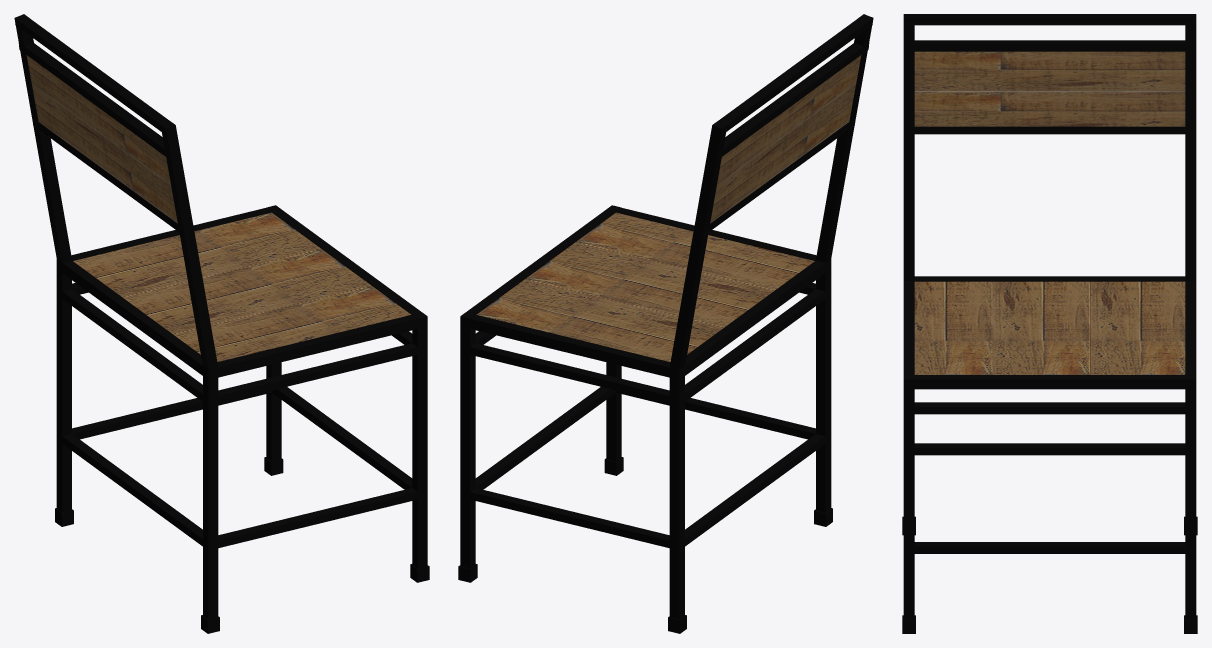
3 renders of one model, left to right at view 1: azimuth 30°, elevation 25°; view 2: azimuth 150°, elevation 25°; view 3: azimuth 270°, elevation 25°, orthographic. The views are drawn at different scales.
Parts seen in each view (by area): view 1: СИДУШКА, стул, Cube_3, спинка, Cube_9, Cube, Null_3; view 2: СИДУШКА, стул, Cube_3, спинка, Cube_9, Cube, Null_3; view 3: СИДУШКА, спинка, стул, Cube, Cube_9, Cube_3, Null_3.
Part boxes in pixels (bbox=[...]): СИДУШКА: bbox=[73, 212, 411, 361]; стул: bbox=[62, 208, 421, 548]; Cube_3: bbox=[56, 205, 427, 619]; спинка: bbox=[26, 55, 177, 223]; Cube_9: bbox=[14, 14, 219, 375]; Cube: bbox=[15, 16, 193, 236]; Null_3: bbox=[55, 457, 429, 633]; СИДУШКА: bbox=[476, 212, 814, 361]; стул: bbox=[460, 208, 825, 549]; Cube_3: bbox=[460, 205, 831, 619]; спинка: bbox=[710, 55, 861, 223]; Cube_9: bbox=[670, 14, 873, 369]; Cube: bbox=[703, 16, 872, 236]; Null_3: bbox=[458, 457, 832, 633]; СИДУШКА: bbox=[914, 281, 1185, 374]; спинка: bbox=[914, 51, 1185, 126]; стул: bbox=[903, 276, 1196, 553]; Cube: bbox=[903, 14, 1196, 134]; Cube_9: bbox=[903, 15, 1196, 280]; Cube_3: bbox=[903, 374, 1196, 620]; Null_3: bbox=[902, 516, 1197, 633].
Bounding box in the file's own units: 0.436 × 0.8186 × 0.4401.
Materials: 3 (2 with a texture image).
